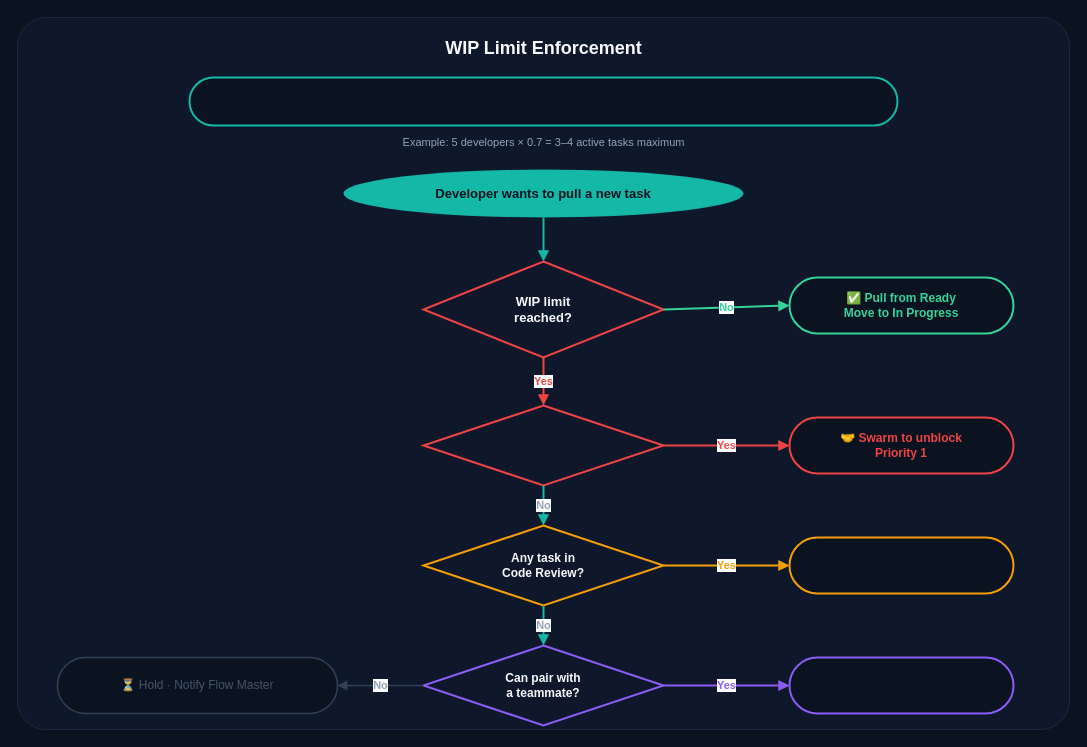
This 1087x747 diagram has some shape labels left out. Each missing label, with the centre of its shape:
"Any task in Blocked?" belongs at (x=543, y=445).
"WIP Limit = Team Size × Focus Factor (0.6 – 0.8)" belongs at (x=543, y=101).
"👥 Pair program Priority 3" belongs at (x=901, y=685).
"🔍 Do a code review Priority 2" belongs at (x=901, y=565).
